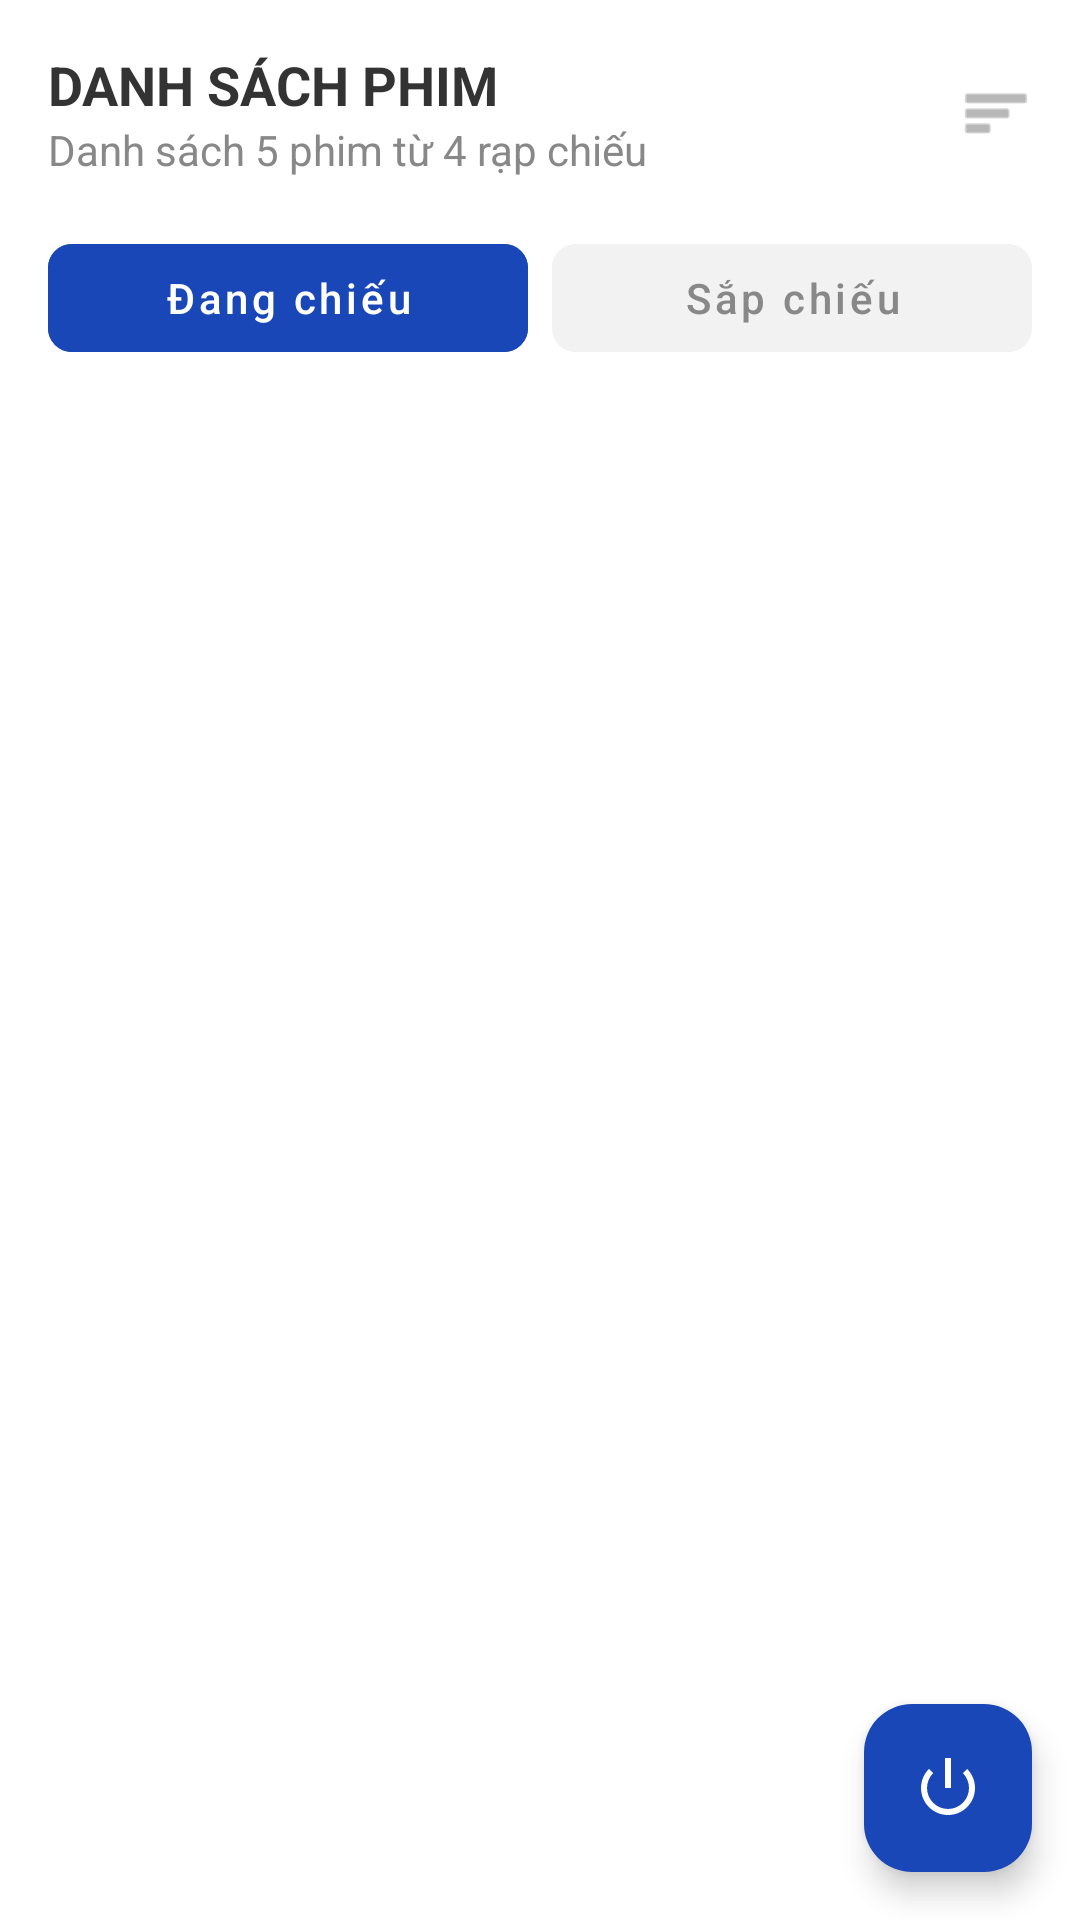

Point at icon controls on the screen. Image size 1080×1920, points as point (x, y).
lock power off: point (948, 1788)
